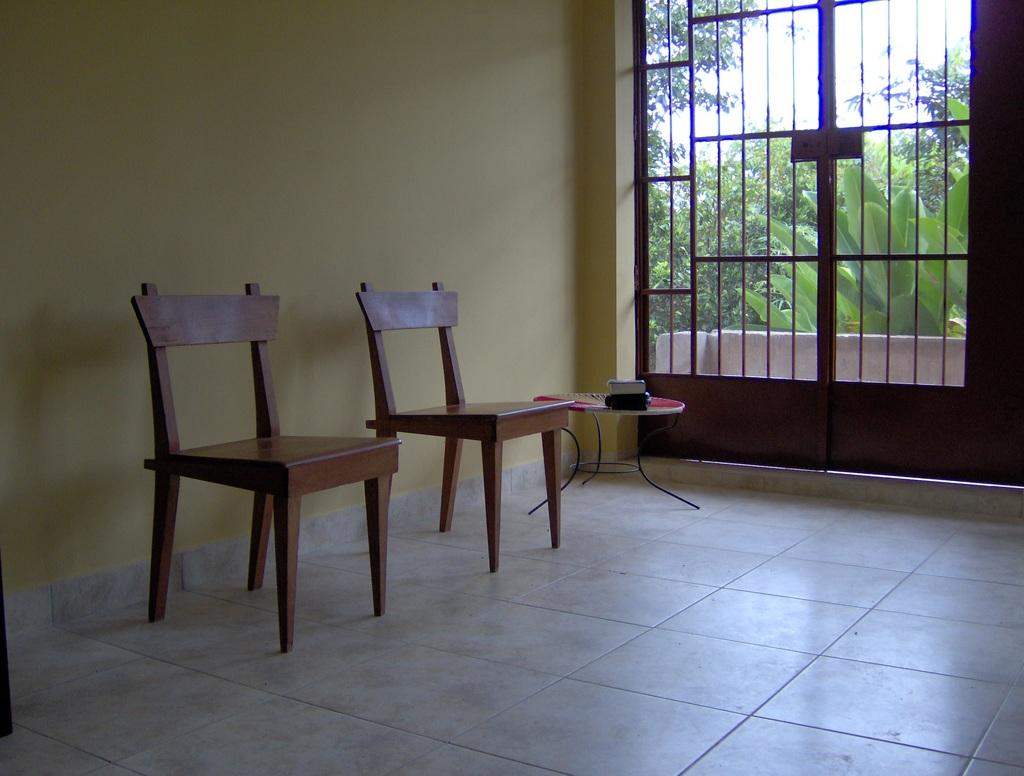Chair: (118, 274, 406, 651), (354, 282, 576, 578)
